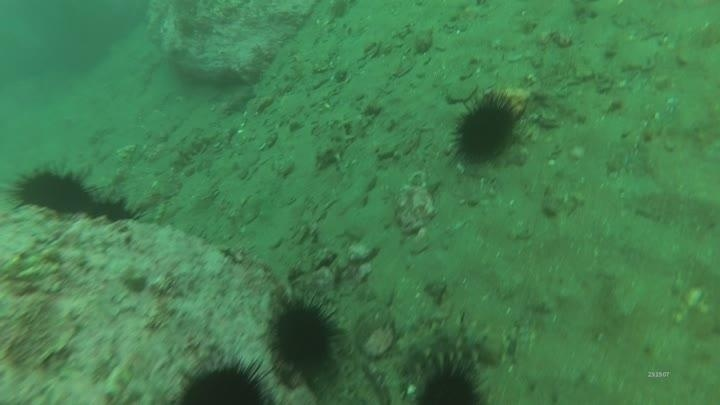echinus: (264, 293, 343, 379), (449, 91, 523, 167), (10, 161, 97, 218), (175, 356, 275, 404), (410, 353, 489, 404), (85, 191, 136, 233)
holothurian: (393, 315, 508, 374), (620, 185, 718, 234), (312, 115, 358, 173), (171, 128, 223, 172)
